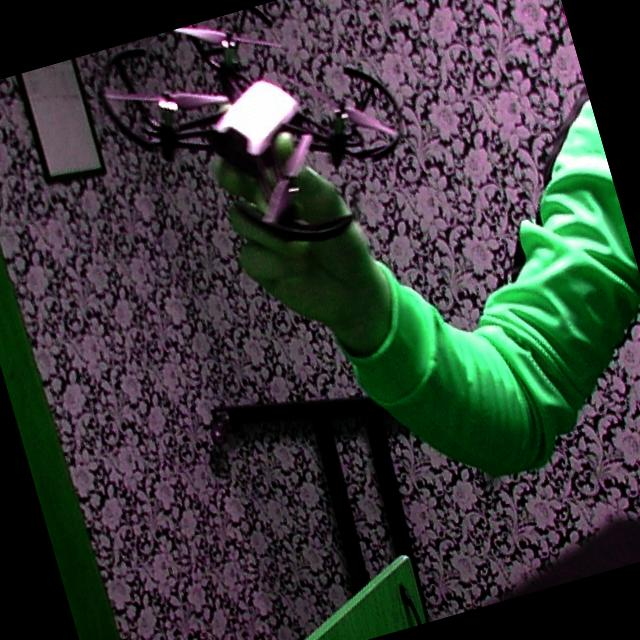drone: (74, 0, 442, 311)
